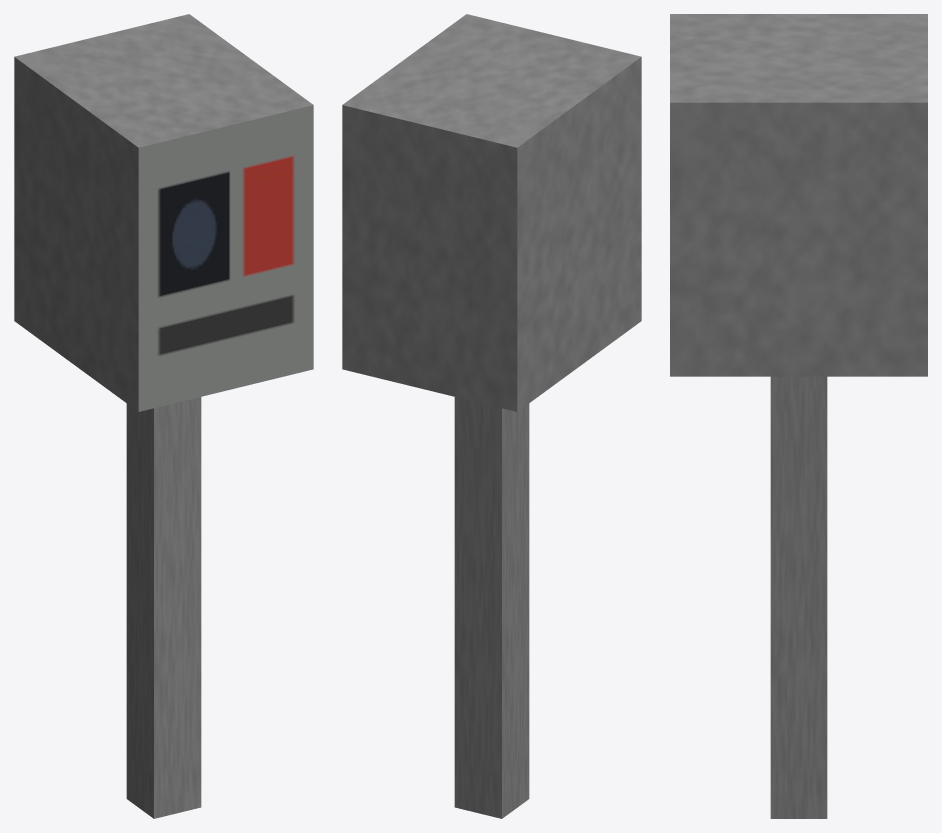
Rendered from SM_blitzer.fbx.
The picture shows the model from 3 angles, left to right: view 1: azimuth 30°, elevation 25°; view 2: azimuth 150°, elevation 25°; view 3: azimuth 270°, elevation 25°; orthographic projection. The views are drawn at different scales.
Visible parts, largest first — view 1: SM_blitzer; view 2: SM_blitzer; view 3: SM_blitzer.
Boxes of the visible parts, x1,y1,x2,y2 form: SM_blitzer: (14,14,313,818); SM_blitzer: (342,14,641,818); SM_blitzer: (670,14,927,818).
Size of the model in its own units: 0.52 by 2.05 by 0.64.
